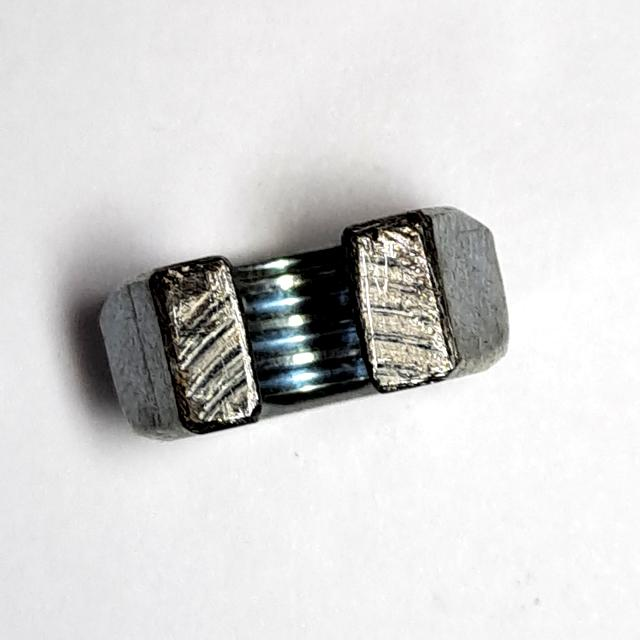Side-Fracture: (89, 192, 524, 450)
